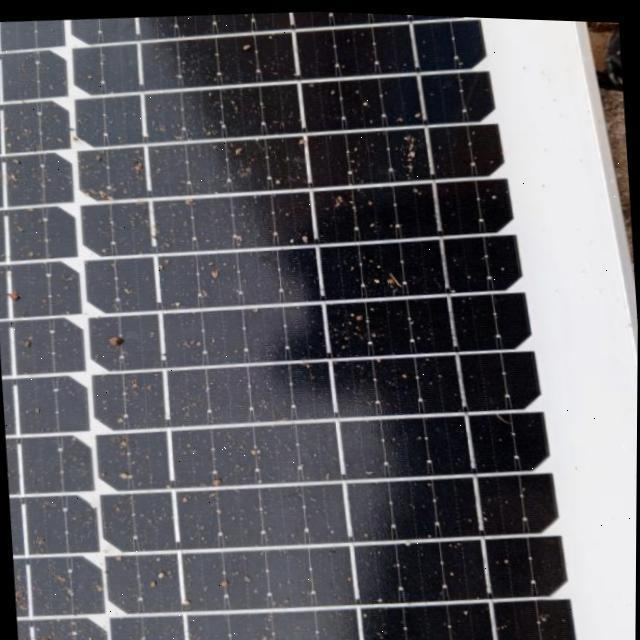Anomaly Solar Panel: (9, 0, 576, 640)
Surface Contaminant: (13, 9, 573, 640)
